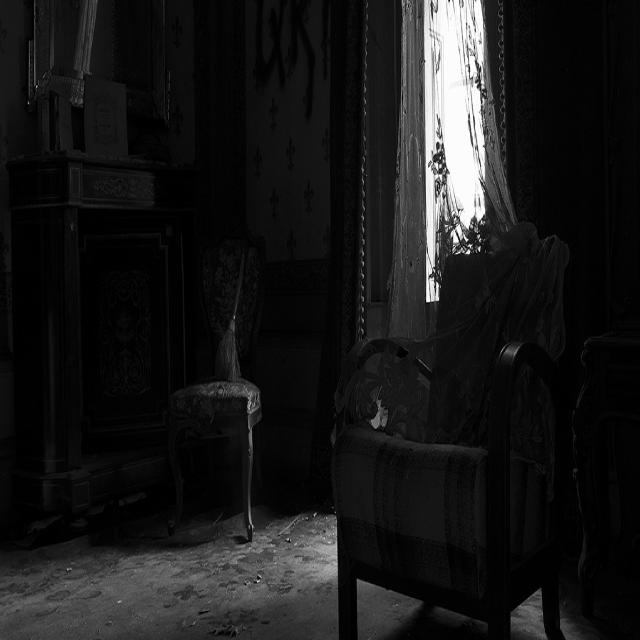Table: (1, 132, 209, 558)
chair: (329, 228, 584, 640), (169, 196, 269, 558)
